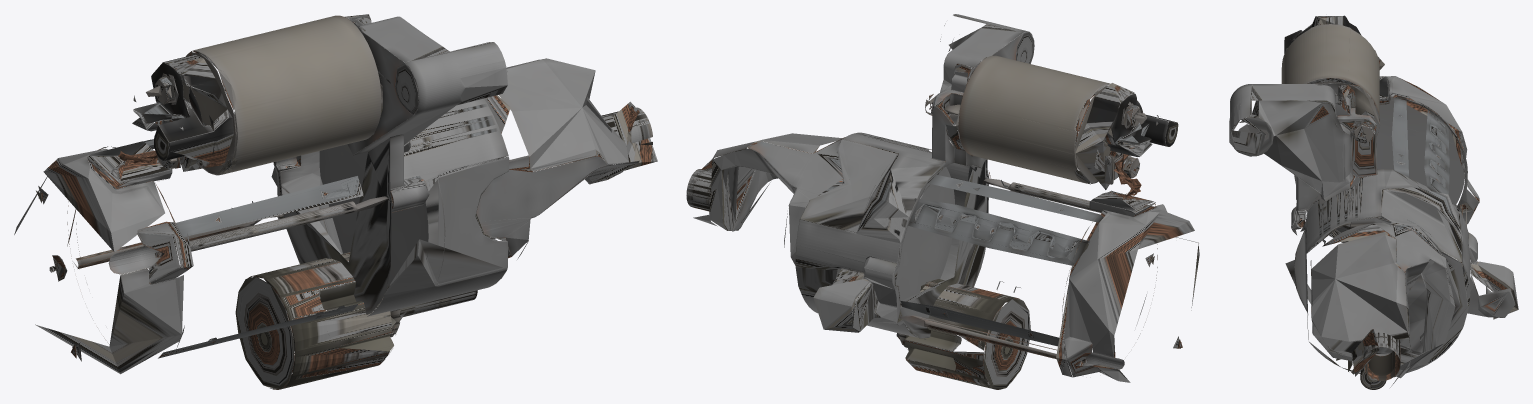
Rendered from electricalSystem_starter_c01.glb.
3 renders of one model, left to right at view 1: azimuth 30°, elevation 25°; view 2: azimuth 150°, elevation 25°; view 3: azimuth 270°, elevation 25°, orthographic. The views are drawn at different scales.
Visible parts, largest first — view 1: geometry_0; view 2: geometry_0; view 3: geometry_0.
Part boxes in pixels (bbox=[...]): geometry_0: bbox=[14, 14, 657, 389]; geometry_0: bbox=[686, 14, 1199, 389]; geometry_0: bbox=[1229, 15, 1518, 389].
Size of the model in its own units: 0.42 by 0.2581 by 0.2349.
1 material, 1 textured.
